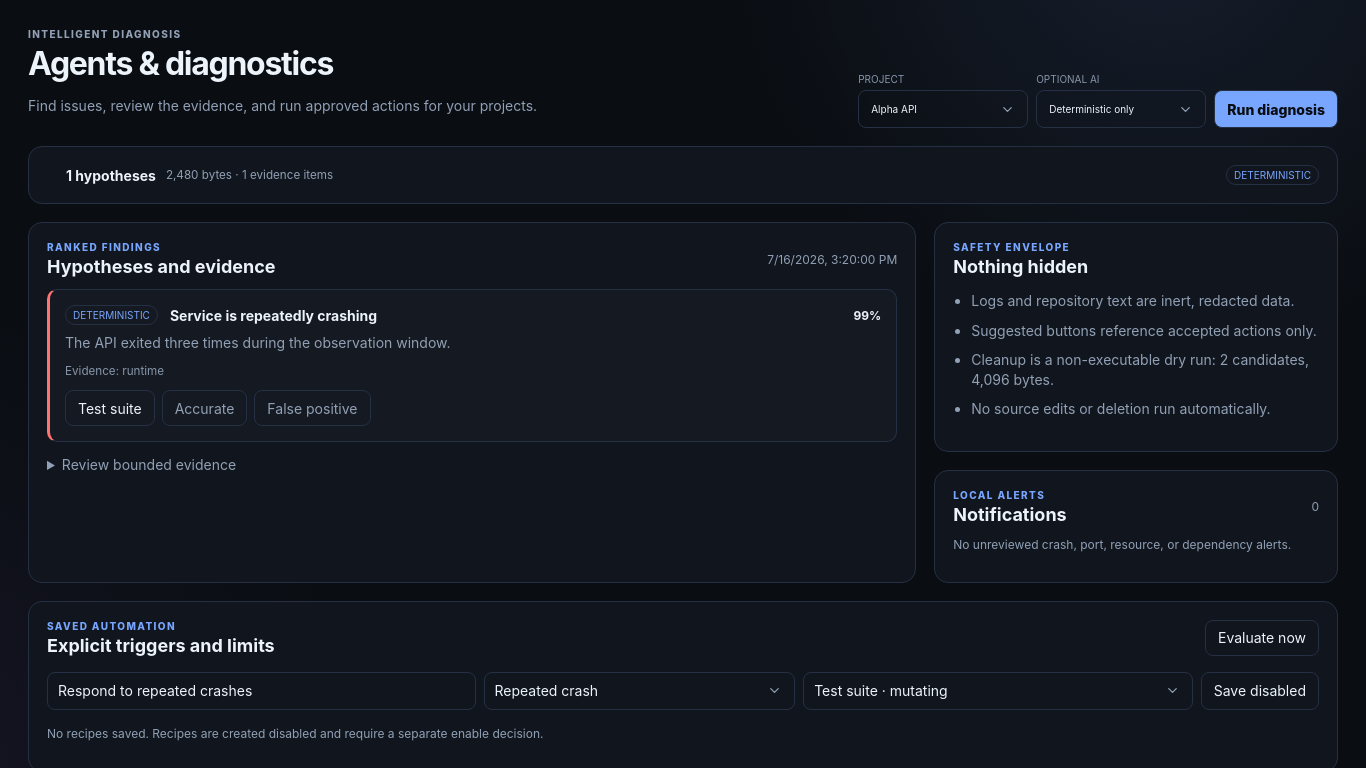
Test: records false-positive review locally and creates recipes disabled
The width and height of the screenshot is (1366, 768).
Expected: the text "Service is repeatedly crashing" is shown, x1=170 y1=306 x2=377 y2=324
Click the button "False positive" at (312, 408), box x1=254 y1=390 x2=370 y2=426
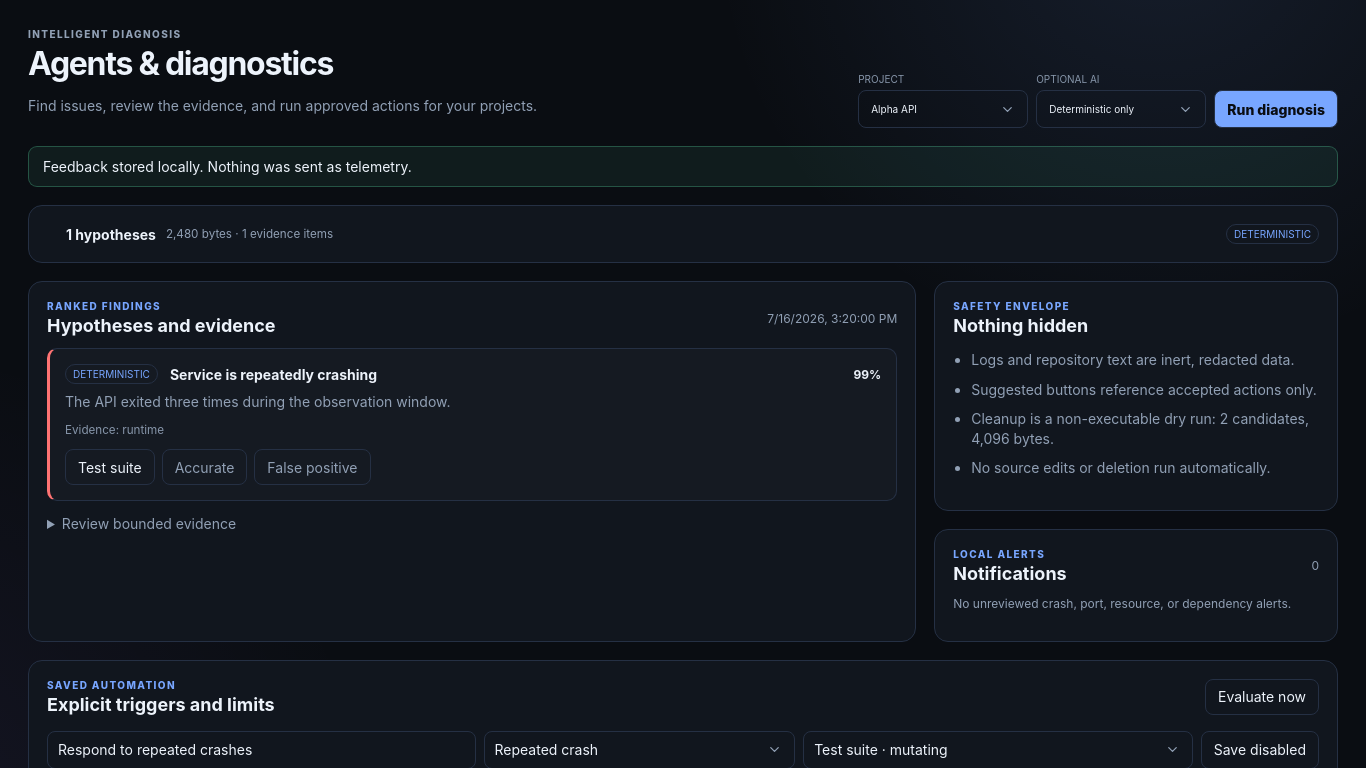
Result: the message shows "stored locally" at x1=43 y1=158 x2=412 y2=175
Click the button "Save disabled" at (1260, 750), box x1=1201 y1=731 x2=1319 y2=767
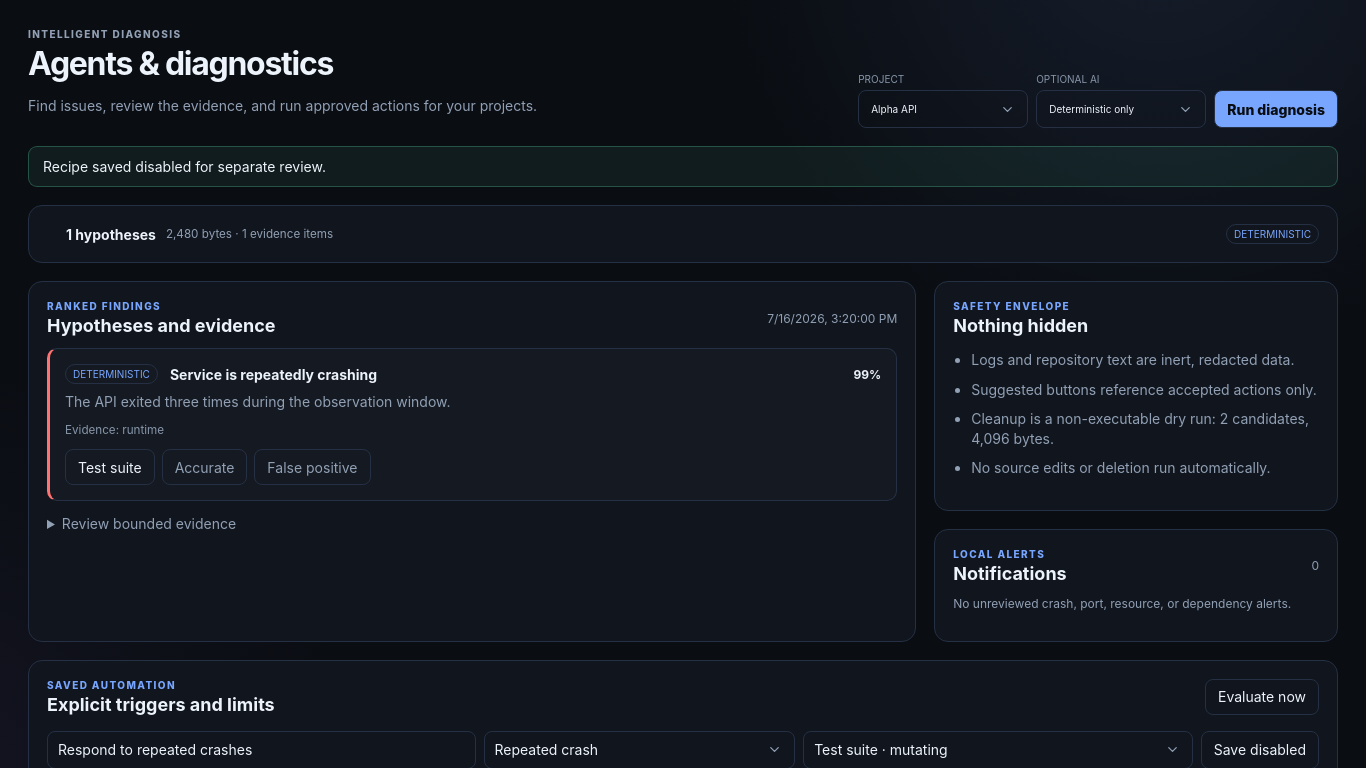
Result: the message shows "saved disabled" at x1=43 y1=158 x2=326 y2=175
